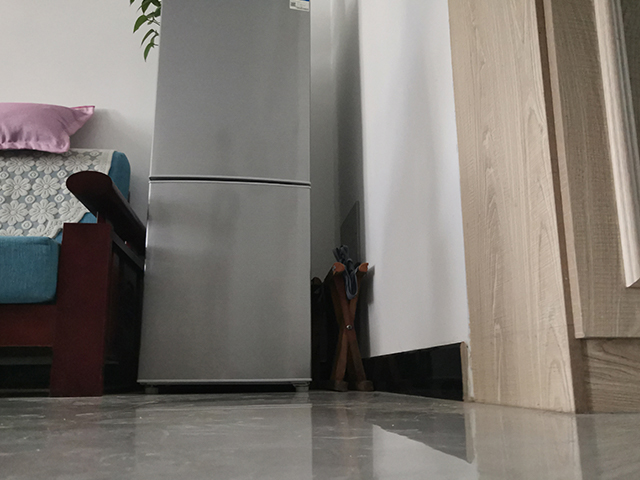sofa: (1, 146, 147, 399)
stool: (321, 244, 378, 394)
